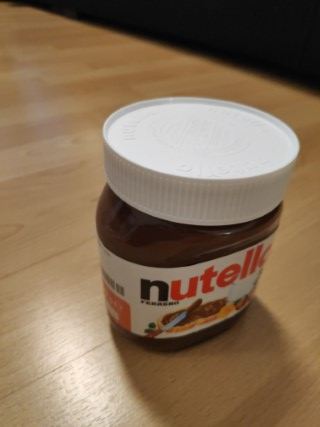nutella: (92, 94, 301, 353)
